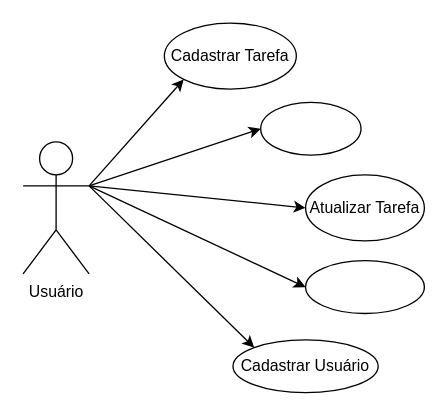
The diagram is 447 pixels wide and 416 high, and some of its shapes have lost their labels. The centre of each missing label's shape, as x and y in pixels:
"Deletar Tarefa" belongs at pixel 364 286.
"Editar Tarefa" belongs at pixel 310 128.
